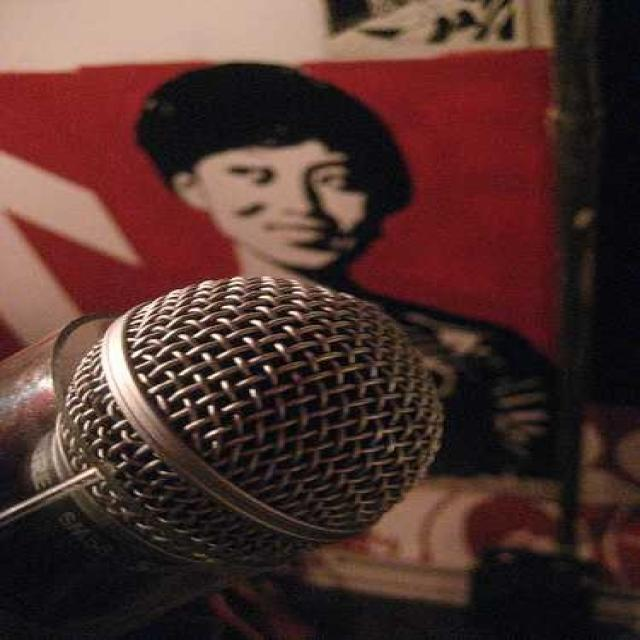microphone: (1, 278, 429, 626)
